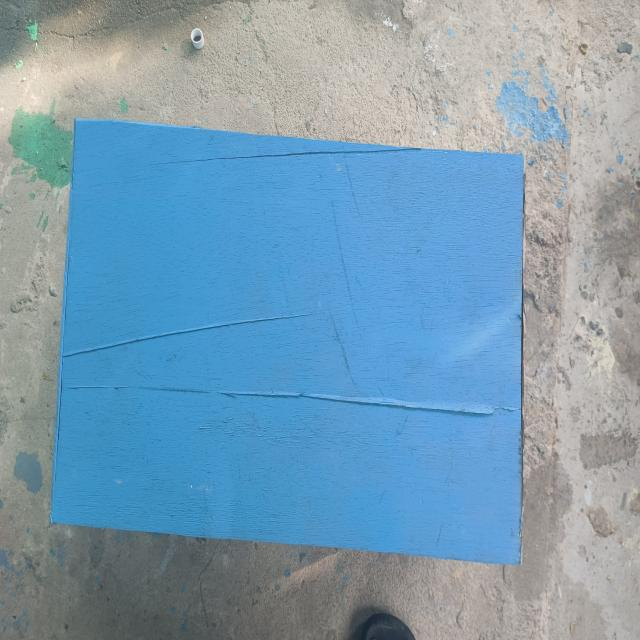blue_box: (62, 112, 521, 570)
